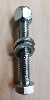FinishedAssembly: (9, 5, 40, 96)
